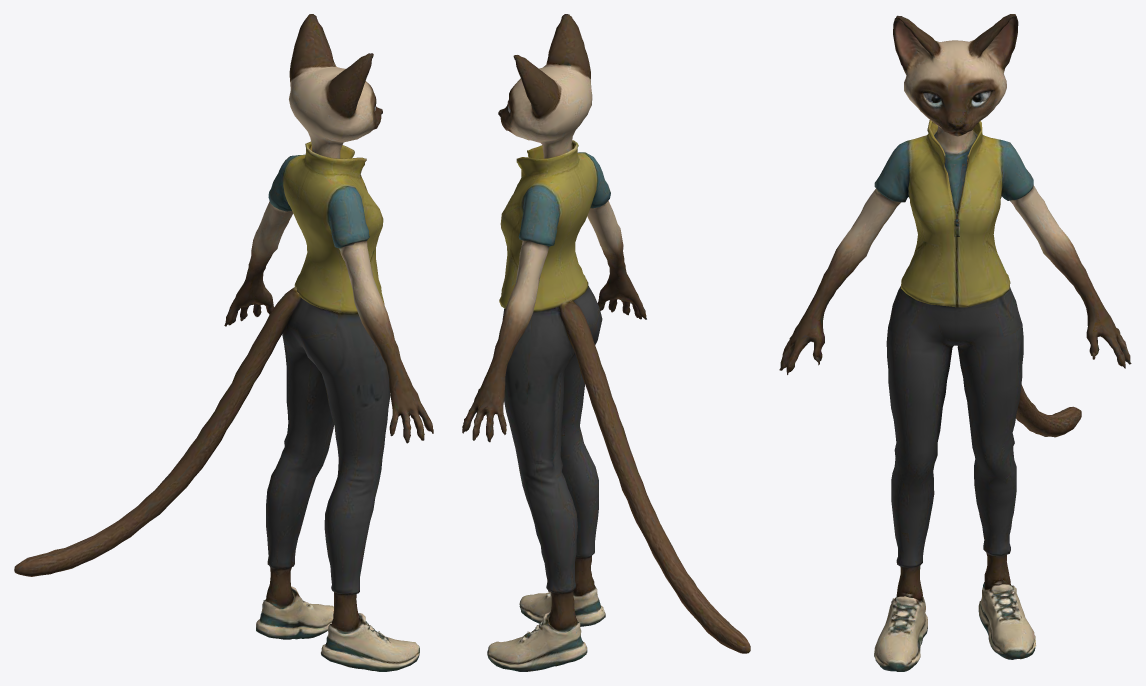
Rendered from 500043886-static-p1.glb.
3 renders of one model, left to right at view 1: azimuth 30°, elevation 25°; view 2: azimuth 150°, elevation 25°; view 3: azimuth 270°, elevation 25°, orthographic. The views are drawn at different scales.
Parts seen in each view (by area): view 1: tripo_node_87d3a51d-e946-45da-9290-548b0242ec59; view 2: tripo_node_87d3a51d-e946-45da-9290-548b0242ec59; view 3: tripo_node_87d3a51d-e946-45da-9290-548b0242ec59.
Boxes of the visible parts, x1,y1,x2,y2 form: tripo_node_87d3a51d-e946-45da-9290-548b0242ec59: [14, 14, 433, 671]; tripo_node_87d3a51d-e946-45da-9290-548b0242ec59: [462, 14, 750, 671]; tripo_node_87d3a51d-e946-45da-9290-548b0242ec59: [779, 14, 1131, 671].
Bounding box in the file's own units: 0.9491 × 1.75 × 0.8794.
1 material, 1 textured.
